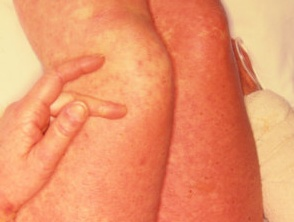SJS-TEN: (0, 0, 273, 222)
